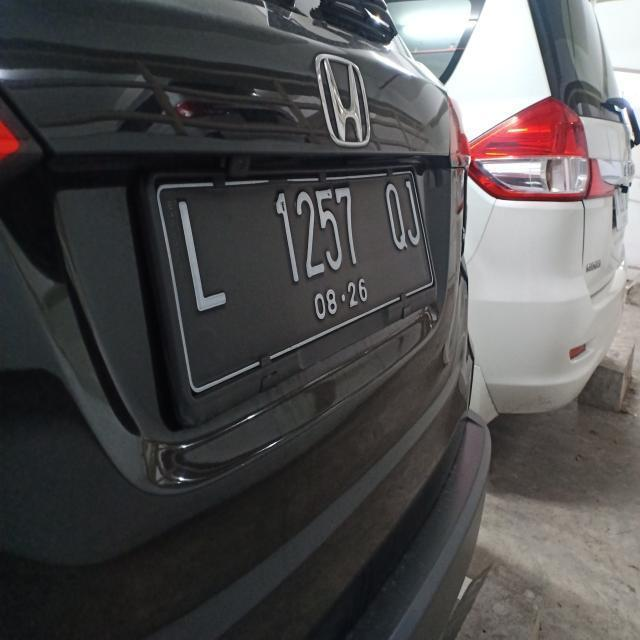1: (263, 190, 300, 292)
2: (296, 186, 321, 282)
5: (318, 186, 340, 279)
7: (341, 184, 364, 271)
J: (406, 184, 426, 248)
L: (170, 196, 242, 318)
Q: (381, 182, 406, 256)
